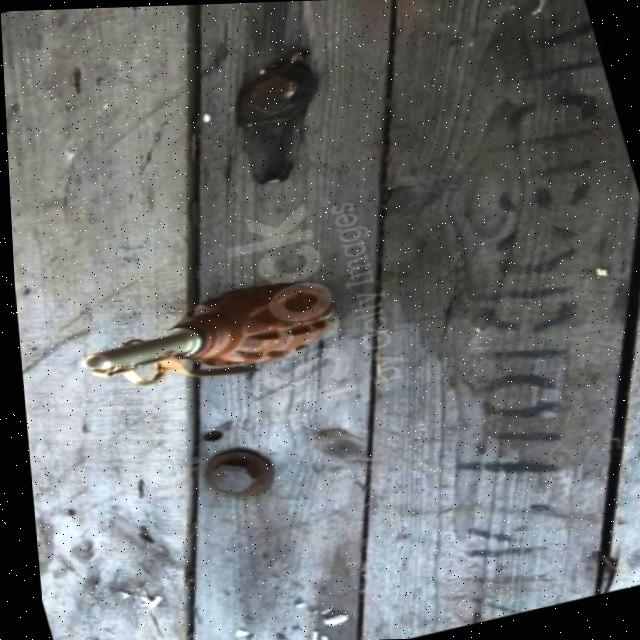grenade: (70, 268, 340, 409)
